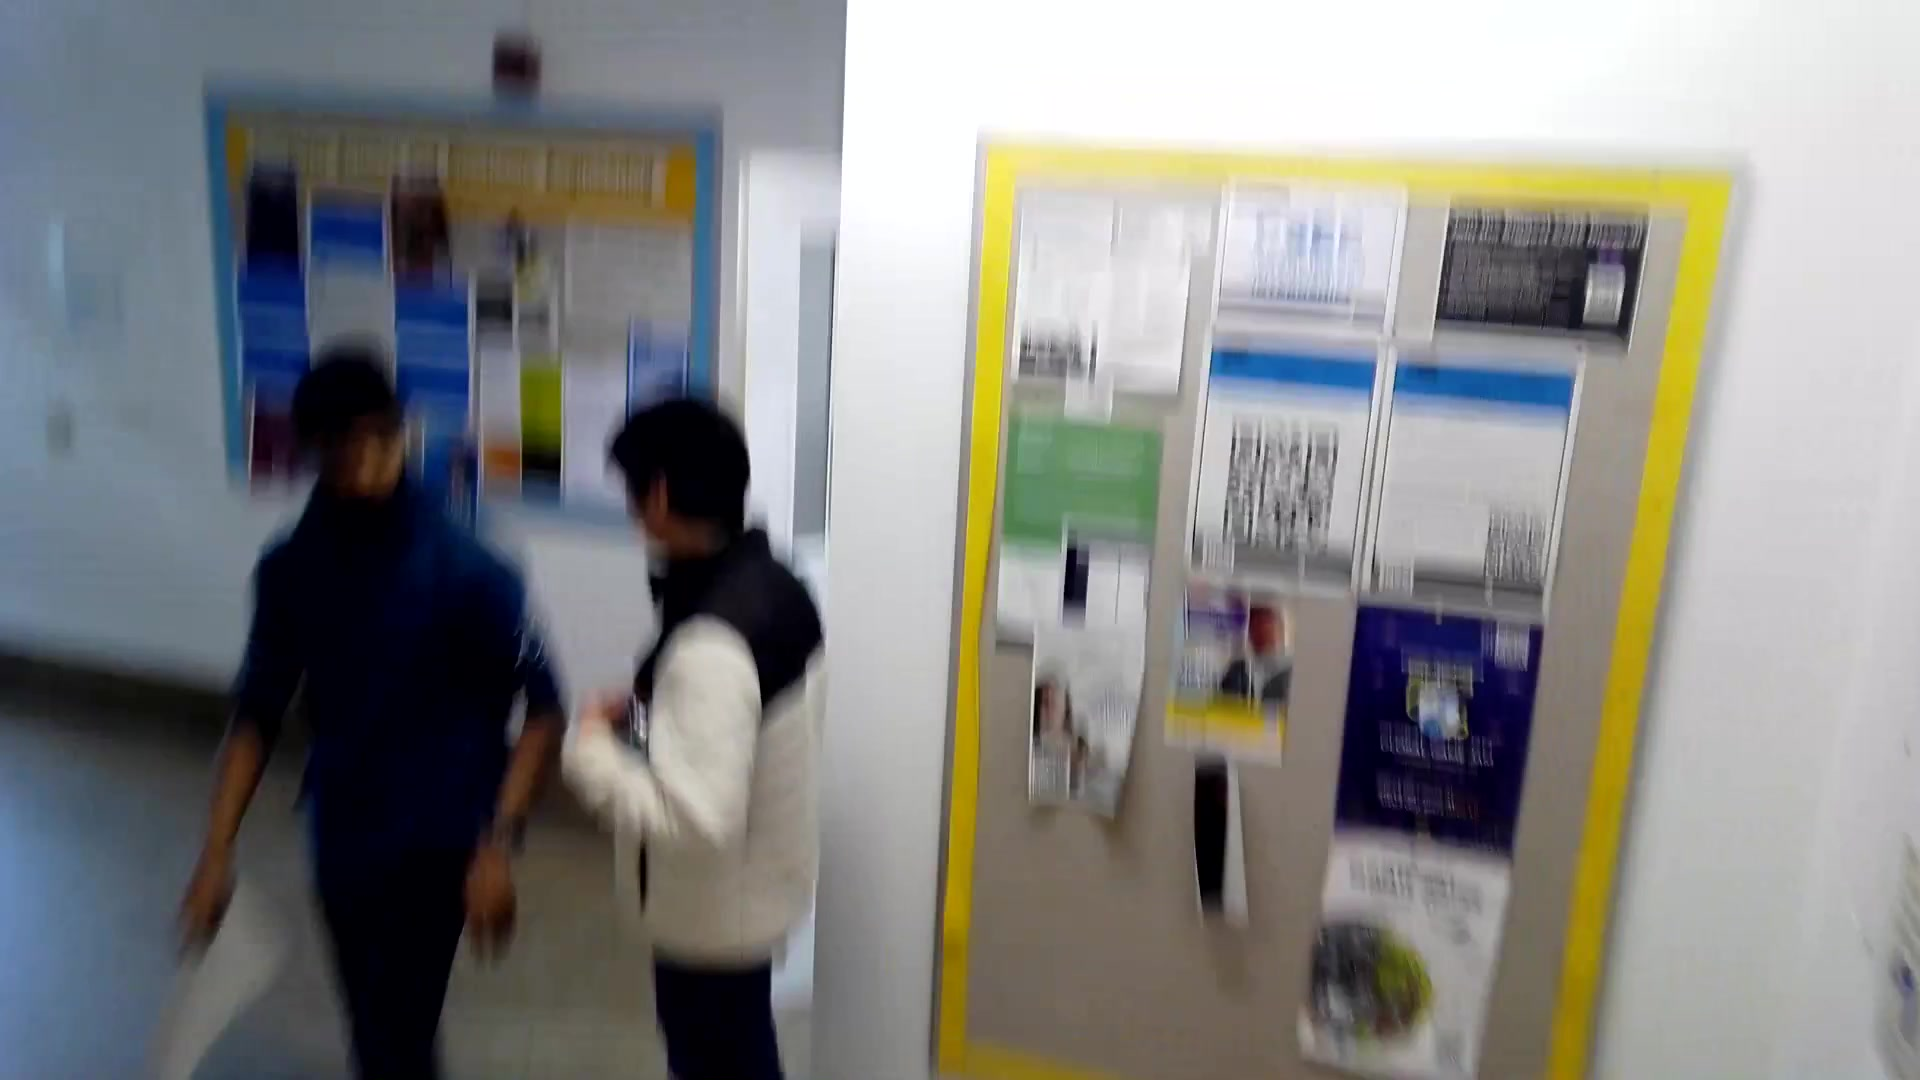Person: (241, 346, 593, 1080), (609, 394, 841, 1080)
